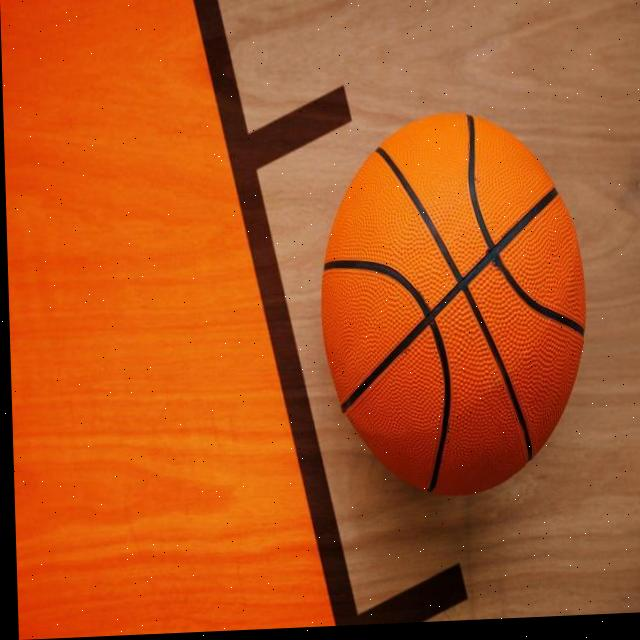Basketball: (312, 109, 589, 500)
